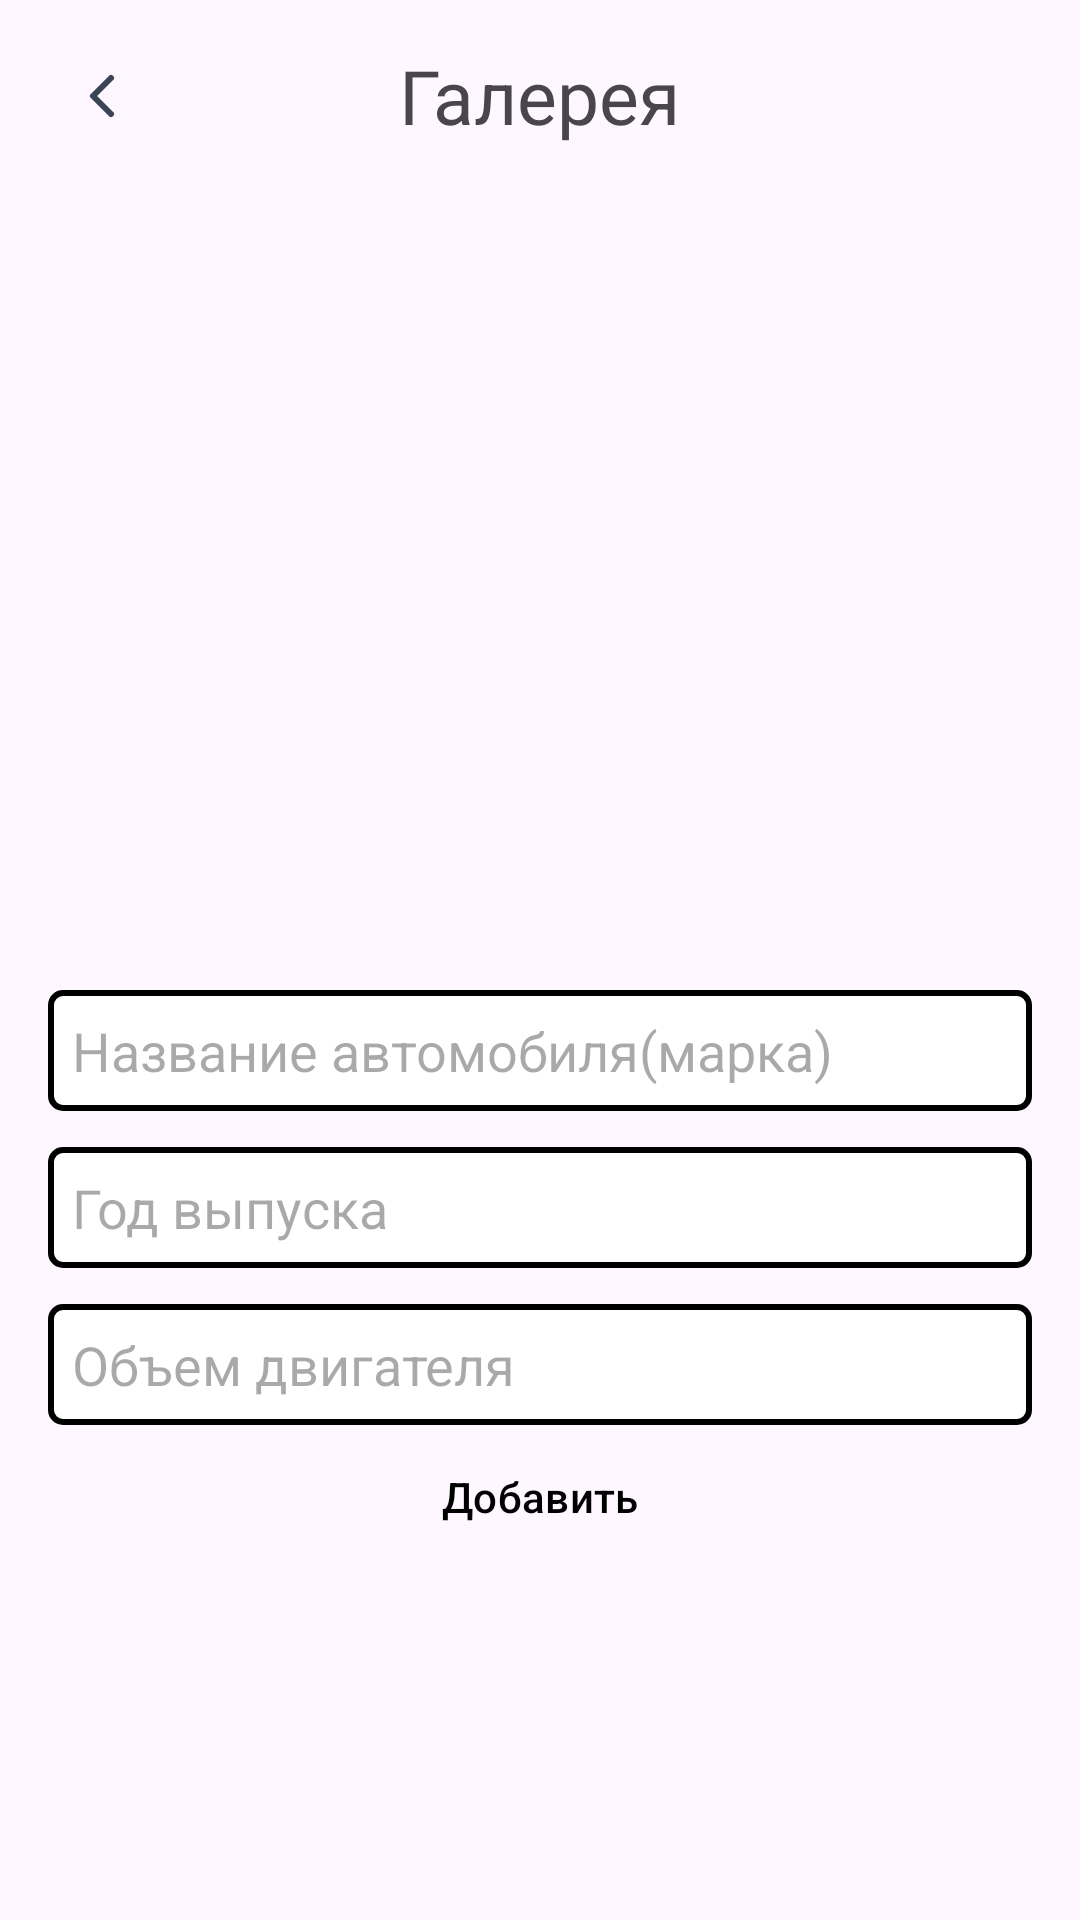

Screen size 1080×1920. Icon name, then its center in pixels as (x=x, y=y):
back arrow: (x=102, y=96)
